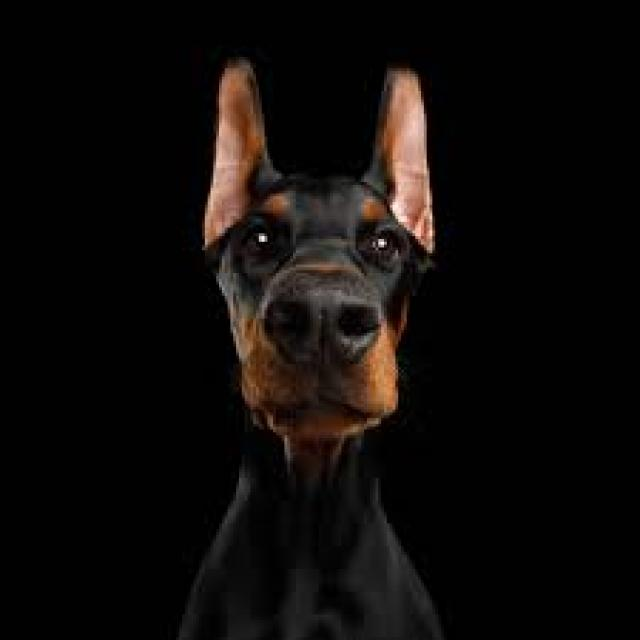Cat: (165, 57, 452, 640)
